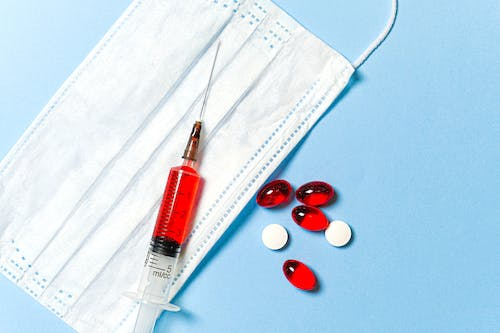blood: (149, 119, 203, 246)
